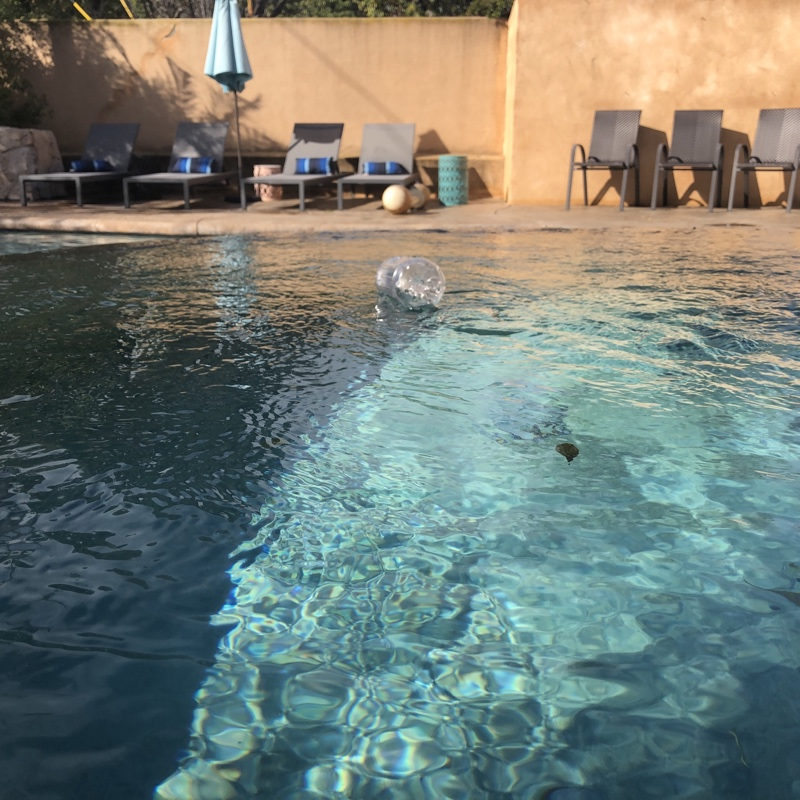Plastic Bottle: (372, 253, 450, 314)
